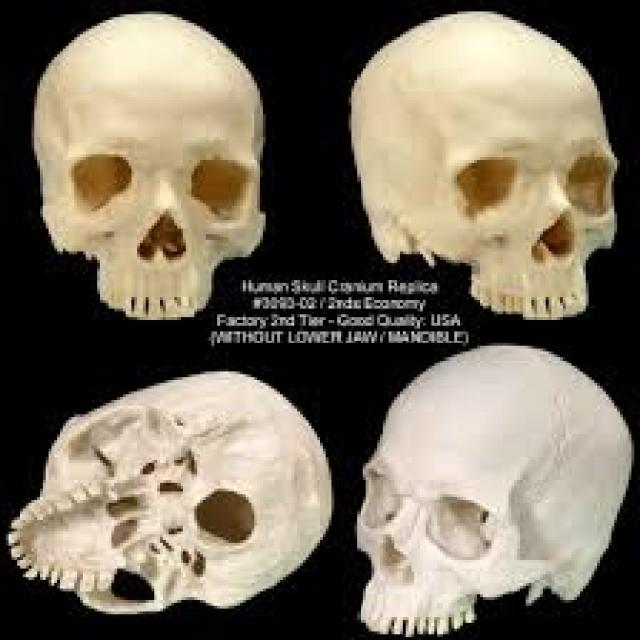skull: (349, 331, 637, 640)
